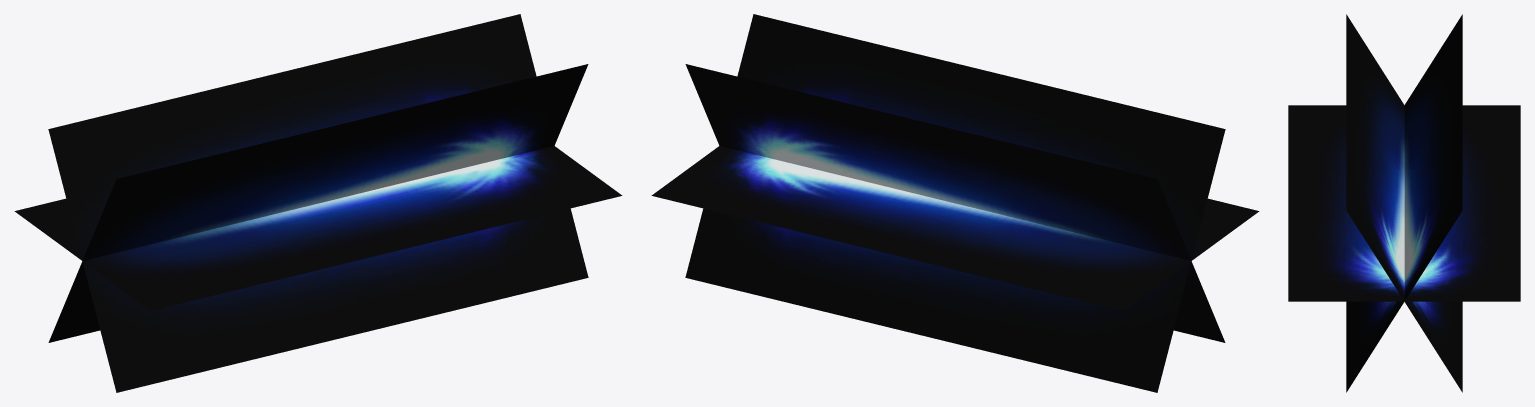
The model's file is Beam21.FBX.
The picture shows the model from 3 angles, left to right: view 1: azimuth 30°, elevation 25°; view 2: azimuth 150°, elevation 25°; view 3: azimuth 270°, elevation 25°; orthographic projection. The views are drawn at different scales.
Visible parts, largest first — view 1: Beam21; view 2: Beam21; view 3: Beam21.
Part boxes in pixels (x1,y1,x2,y2): Beam21: [14, 14, 622, 392]; Beam21: [651, 14, 1259, 392]; Beam21: [1288, 14, 1520, 392].
Bounding box in the file's own units: 126 × 54.42 × 62.83.
Materials: 1 (1 with a texture image).
